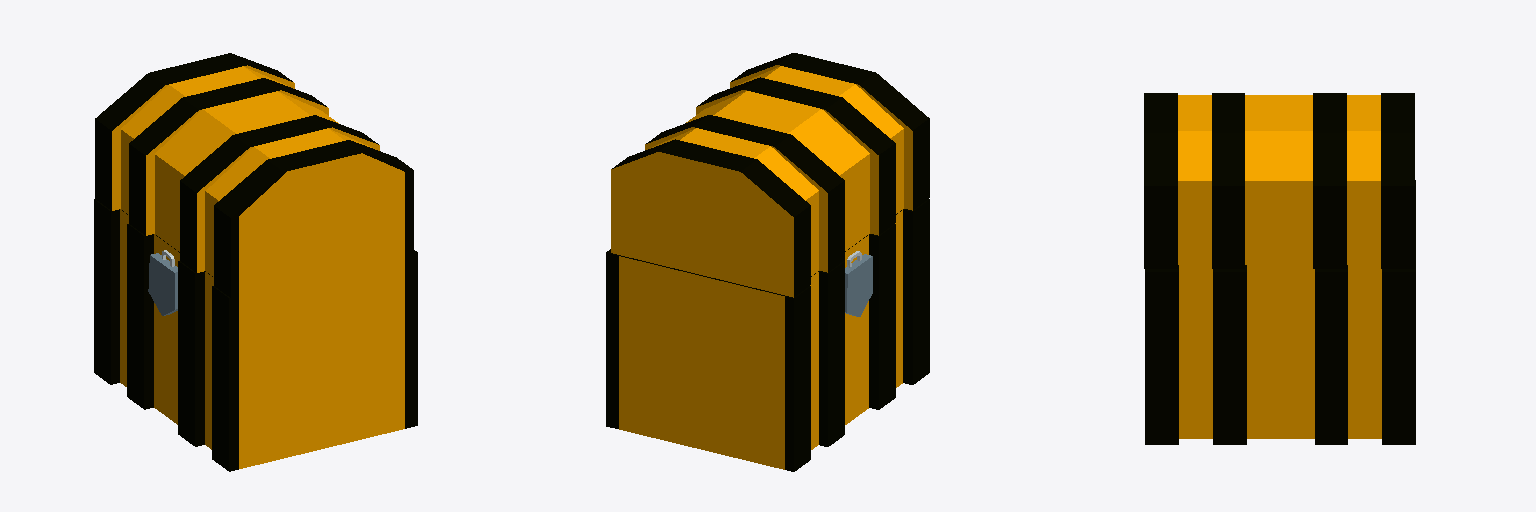
Rendered from Chest.obj.
3 views of the same model, side by side, from view 1: azimuth 30°, elevation 25°; view 2: azimuth 150°, elevation 25°; view 3: azimuth 270°, elevation 25° (orthographic).
Visible parts, largest first — view 1: Cube.002_Cube.003, Cube_Cube.004, group[number redacted]; view 2: Cube.002_Cube.003, Cube_Cube.004, group[number redacted]; view 3: Cube.002_Cube.003, Cube_Cube.004.
Part boxes in pixels (left/top/right/bottom): Cube.002_Cube.003: left=94, top=199, right=417, bottom=471; Cube_Cube.004: left=95, top=53, right=413, bottom=297; group[number redacted]: left=148, top=253, right=177, bottom=315; Cube.002_Cube.003: left=606, top=199, right=929, bottom=471; Cube_Cube.004: left=611, top=53, right=929, bottom=297; group[number redacted]: left=845, top=254, right=872, bottom=316; Cube.002_Cube.003: left=1145, top=180, right=1415, bottom=444; Cube_Cube.004: left=1144, top=93, right=1414, bottom=268.
Size of the model in its own units: 2.47 by 3.59 by 3.09.